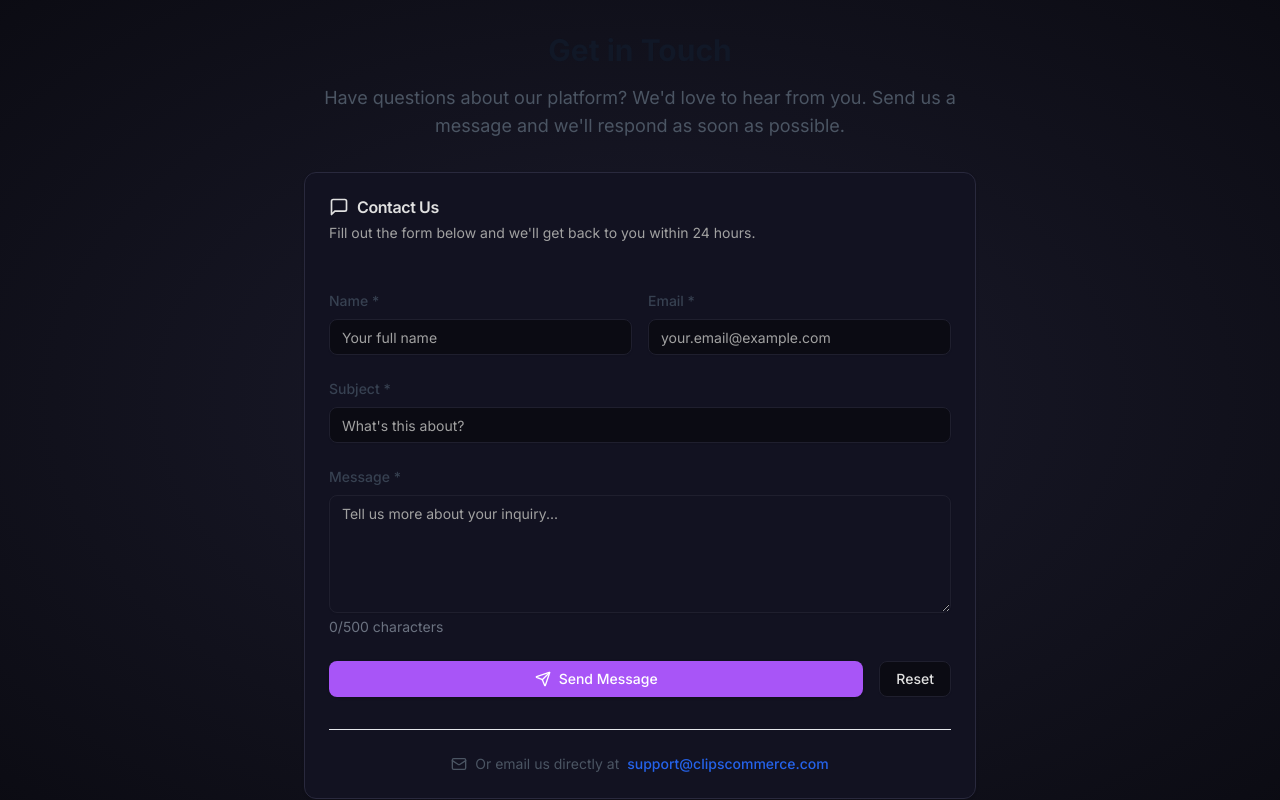
Test: ContactSection › Form Validation › should validate required fields on form submission
# Try to submit empty form
Click the button "Send Message" at [596, 679], box x1=329 y1=661 x2=863 y2=697
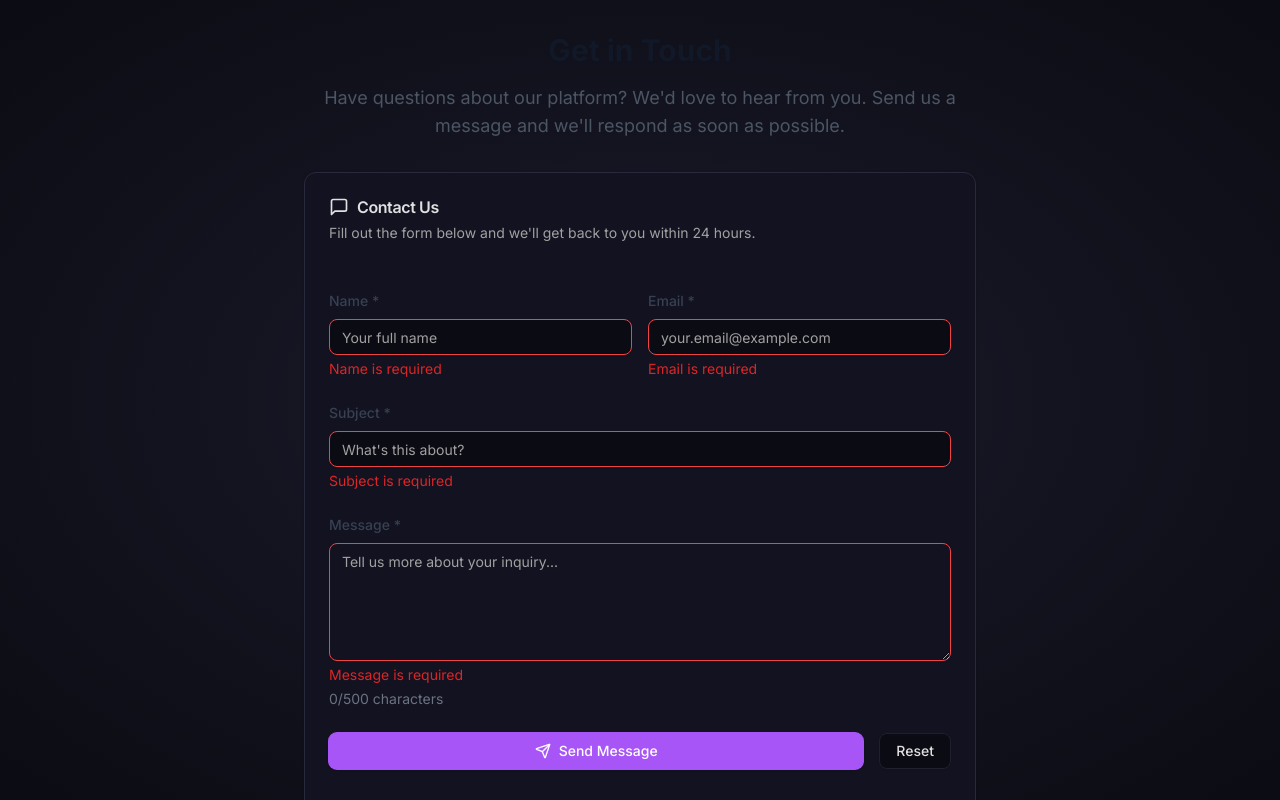
expect the text "Name is required" is shown: met, box x1=329 y1=360 x2=442 y2=377
expect the text "Email is required" is shown: met, box x1=648 y1=360 x2=757 y2=377
expect the text "Subject is required" is shown: met, box x1=329 y1=472 x2=453 y2=489
